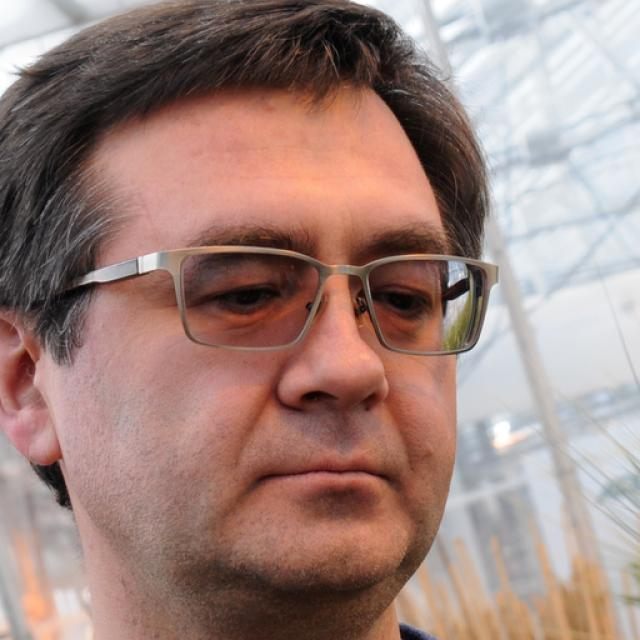neutral: (84, 92, 458, 588)
